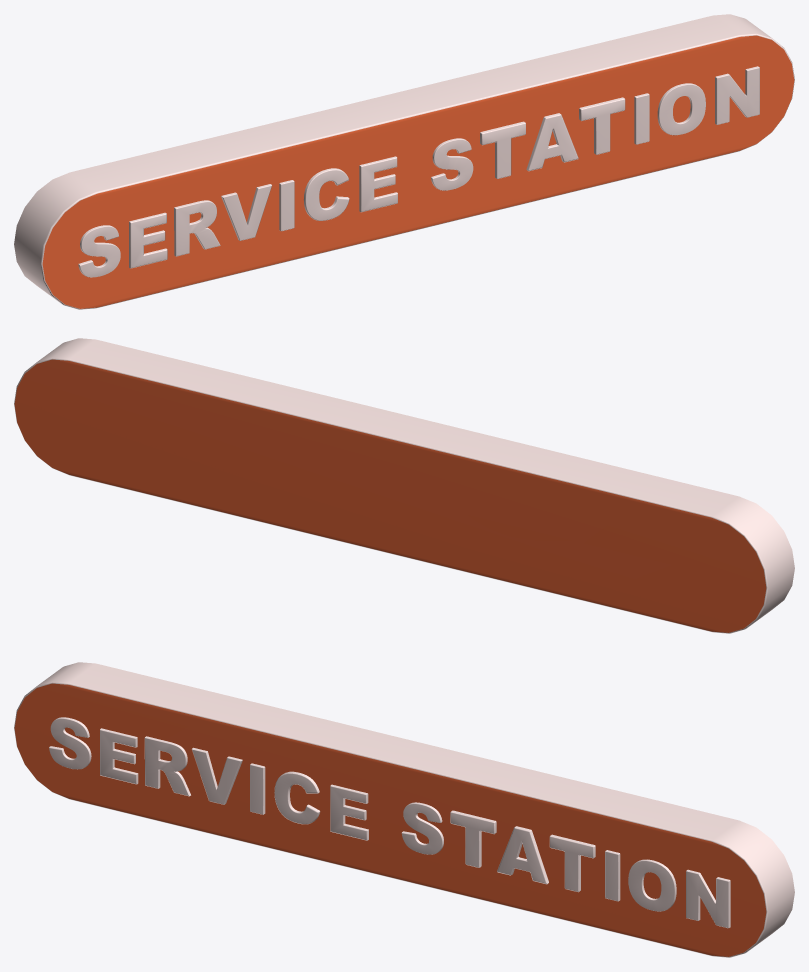
The model's file is Public_5_Servise_Sign_1.glb.
The picture shows the model from 3 angles, top to bottom: view 1: azimuth 30°, elevation 25°; view 2: azimuth 150°, elevation 25°; view 3: azimuth 330°, elevation 25°; orthographic projection.
Parts seen in each view (by area): view 1: Public_5_Servise_Sign_1; view 2: Public_5_Servise_Sign_1; view 3: Public_5_Servise_Sign_1.
Part boxes in pixels (x1,y1,x2,y2): Public_5_Servise_Sign_1: (14,14,794,309); Public_5_Servise_Sign_1: (14,338,794,633); Public_5_Servise_Sign_1: (14,662,794,957).
Size of the model in its own units: 4.23 by 0.6245 by 0.2901.
1 material, 1 textured.
